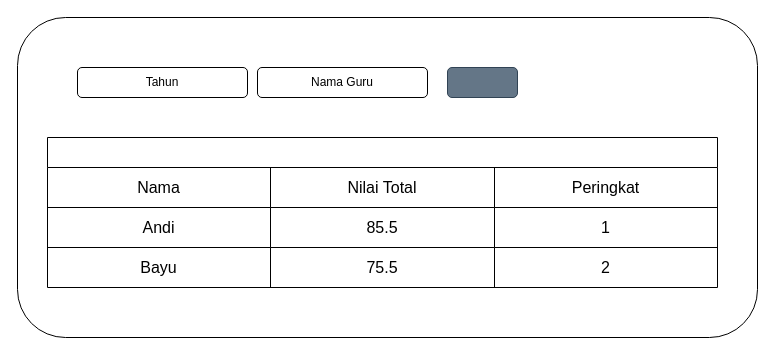
Some shapes in this 775 by 355 pixel diagram are drawn without their labels. The shapes that lost their labels are listed below. From the top down, each one's box as (x1, y1, x2, y2) in pixels, then its label:
(446, 66, 518, 98): Cari
(46, 136, 718, 288): Data Laporan
